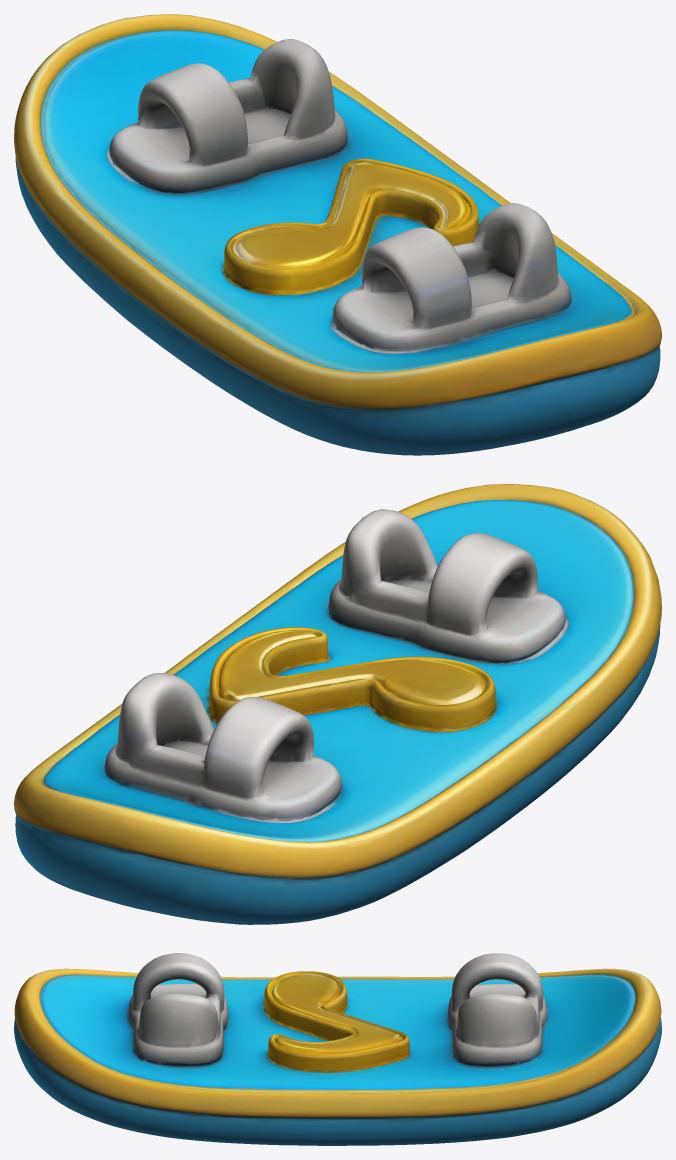
Rendered from snowboard-note.glb.
3 views of the same model, one above another, from view 1: azimuth 30°, elevation 25°; view 2: azimuth 150°, elevation 25°; view 3: azimuth 270°, elevation 25° (orthographic). The views are drawn at different scales.
Parts seen in each view (by area): view 1: tripo_node_05d5db6f-7e31-4b37-9685-52a2f63864c9; view 2: tripo_node_05d5db6f-7e31-4b37-9685-52a2f63864c9; view 3: tripo_node_05d5db6f-7e31-4b37-9685-52a2f63864c9.
Boxes of the visible parts, x1,y1,x2,y2 form: tripo_node_05d5db6f-7e31-4b37-9685-52a2f63864c9: [14, 14, 661, 455]; tripo_node_05d5db6f-7e31-4b37-9685-52a2f63864c9: [14, 484, 661, 924]; tripo_node_05d5db6f-7e31-4b37-9685-52a2f63864c9: [14, 953, 661, 1145].
Size of the model in its own units: 0.4505 by 0.216 by 0.9804.
1 material, 1 textured.
